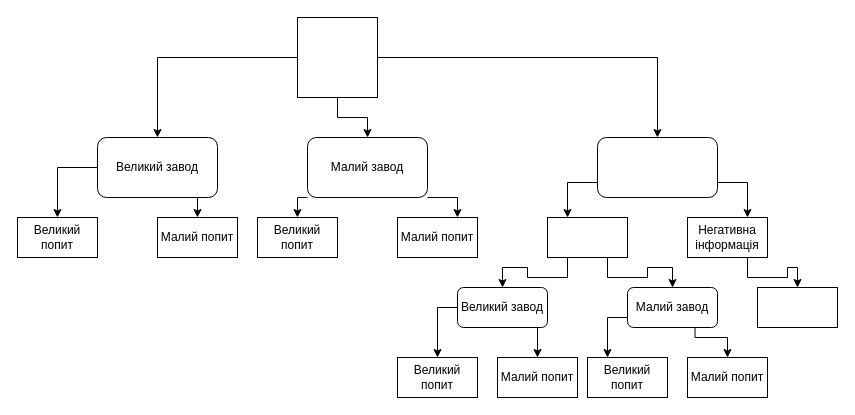
The diagram is 855 pixels wide and 415 high, and some of its shapes have lost their labels. The centre of each missing label's shape, as x and y in pixels:
"0 прибутку" goes at point 797,307.
"Варіант" goes at point 337,57.
"Відкладення на рік" goes at point 657,167.
"Позитивна інформація" goes at point 587,237.
